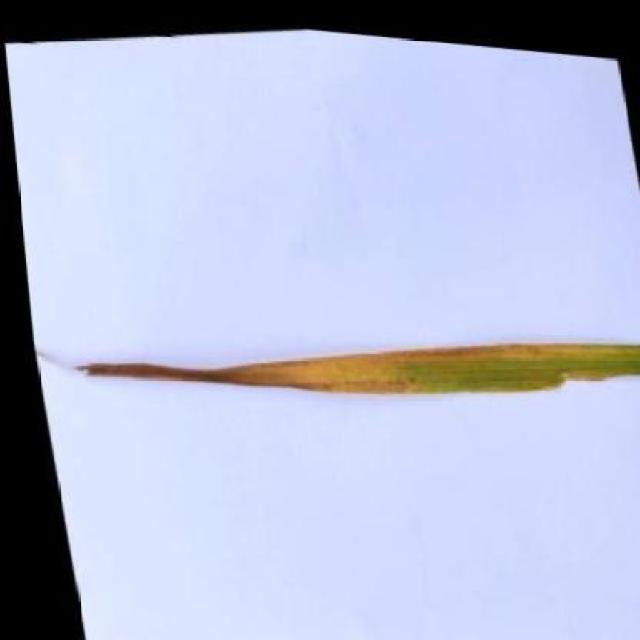Rice False Smut: (36, 261, 635, 474)
